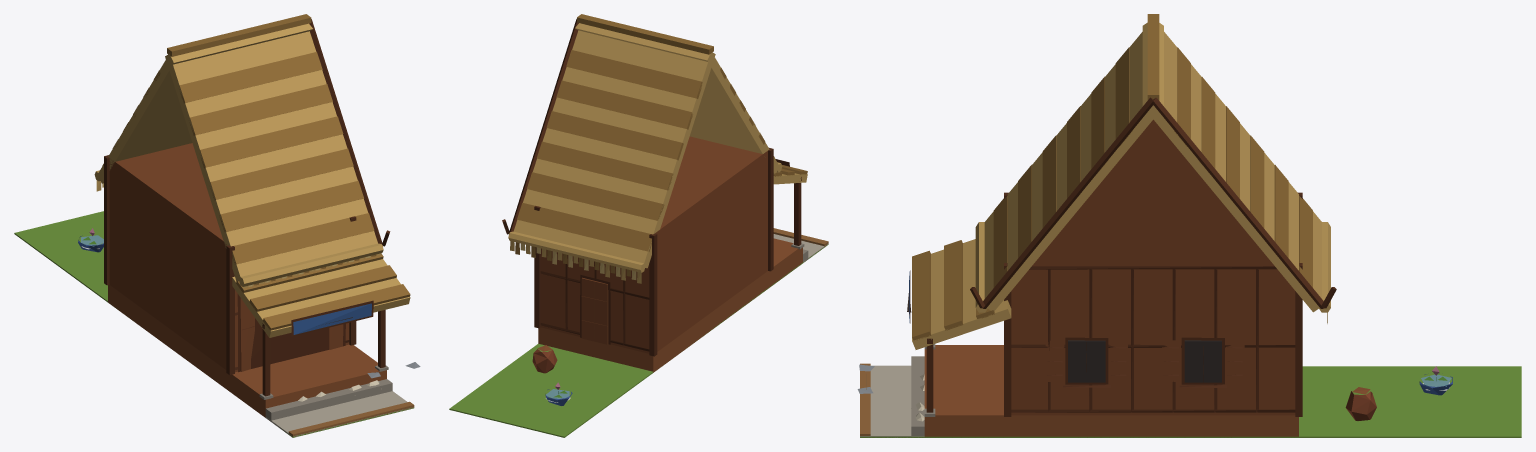
Rendered from bay2_right.glb.
3 views of the same model, side by side, from view 1: azimuth 30°, elevation 25°; view 2: azimuth 150°, elevation 25°; view 3: azimuth 270°, elevation 25° (orthographic). The views are drawn at different scales.
Visible parts, largest first — view 1: body; view 2: body; view 3: body, windows.
Boxes of the visible parts, <box> form: body: <box>14,14,420,437</box>; body: <box>449,14,828,437</box>; body: <box>857,14,1521,437</box>; windows: <box>1068,340,1221,382</box>.
Size of the model in its own units: 4.86 by 9.4 by 15.96.
